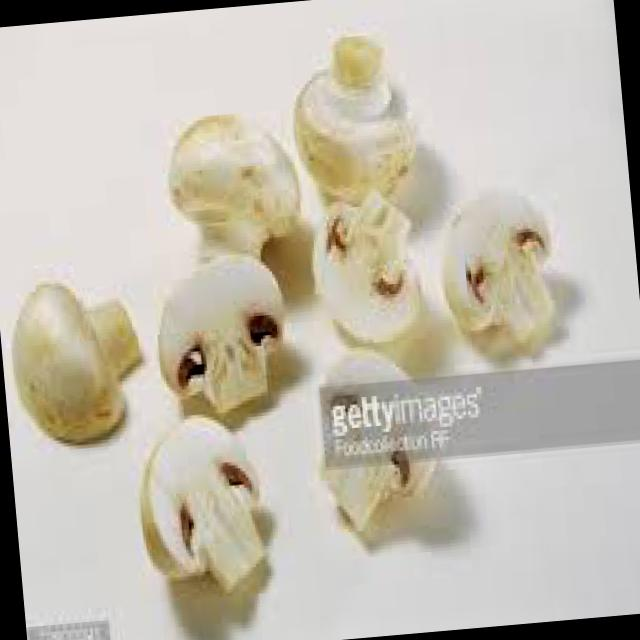Agaricus bisporus: (132, 418, 274, 593), (433, 176, 573, 352), (14, 270, 150, 444), (166, 110, 296, 281), (150, 254, 284, 418), (286, 41, 417, 202), (310, 197, 429, 343)
